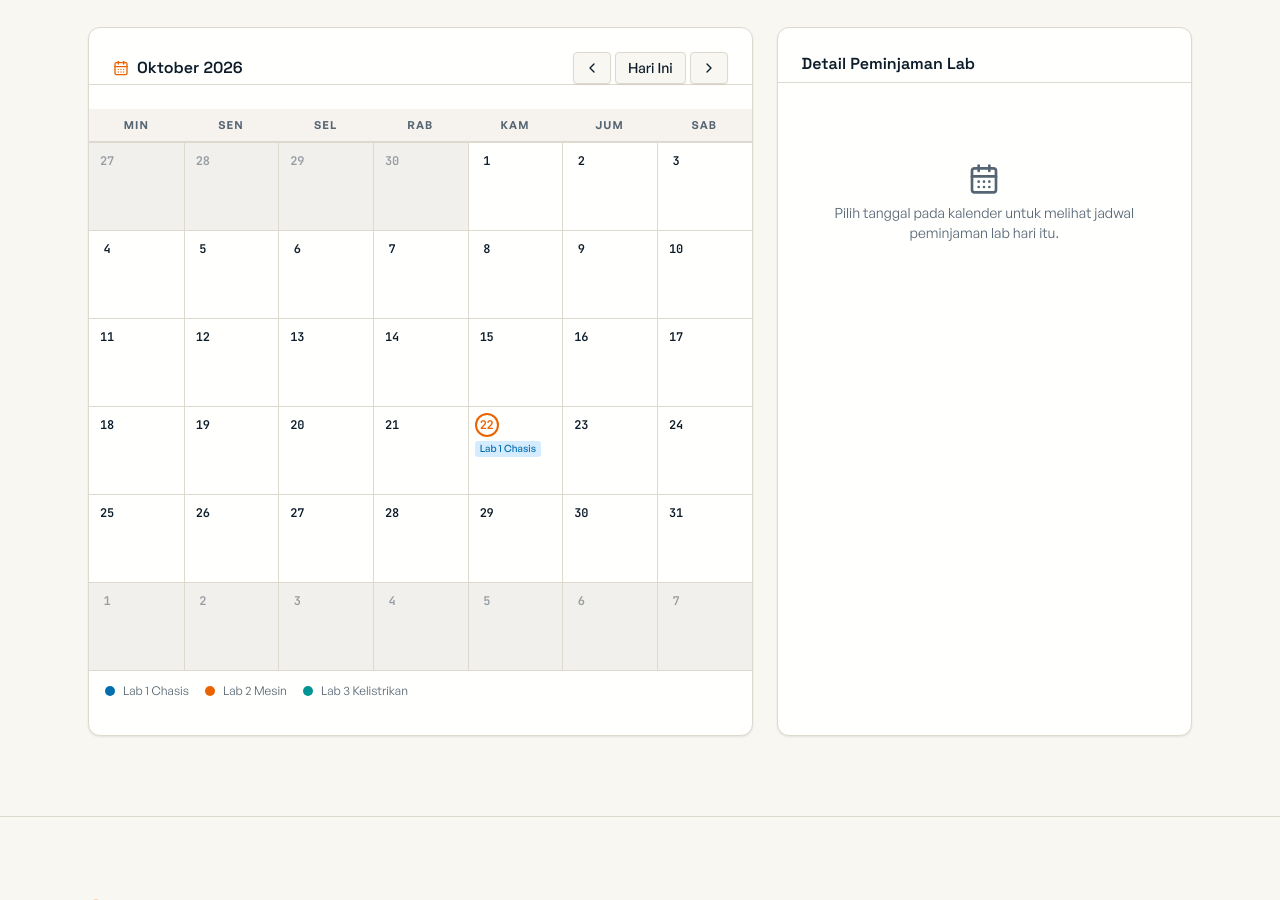
Beranda kalender lab › moves to the next month and clears the selected date
(page scrolled)
Click the button "22 Lab 1 Chasis". click: (515,450)
box: [468, 406, 562, 494]
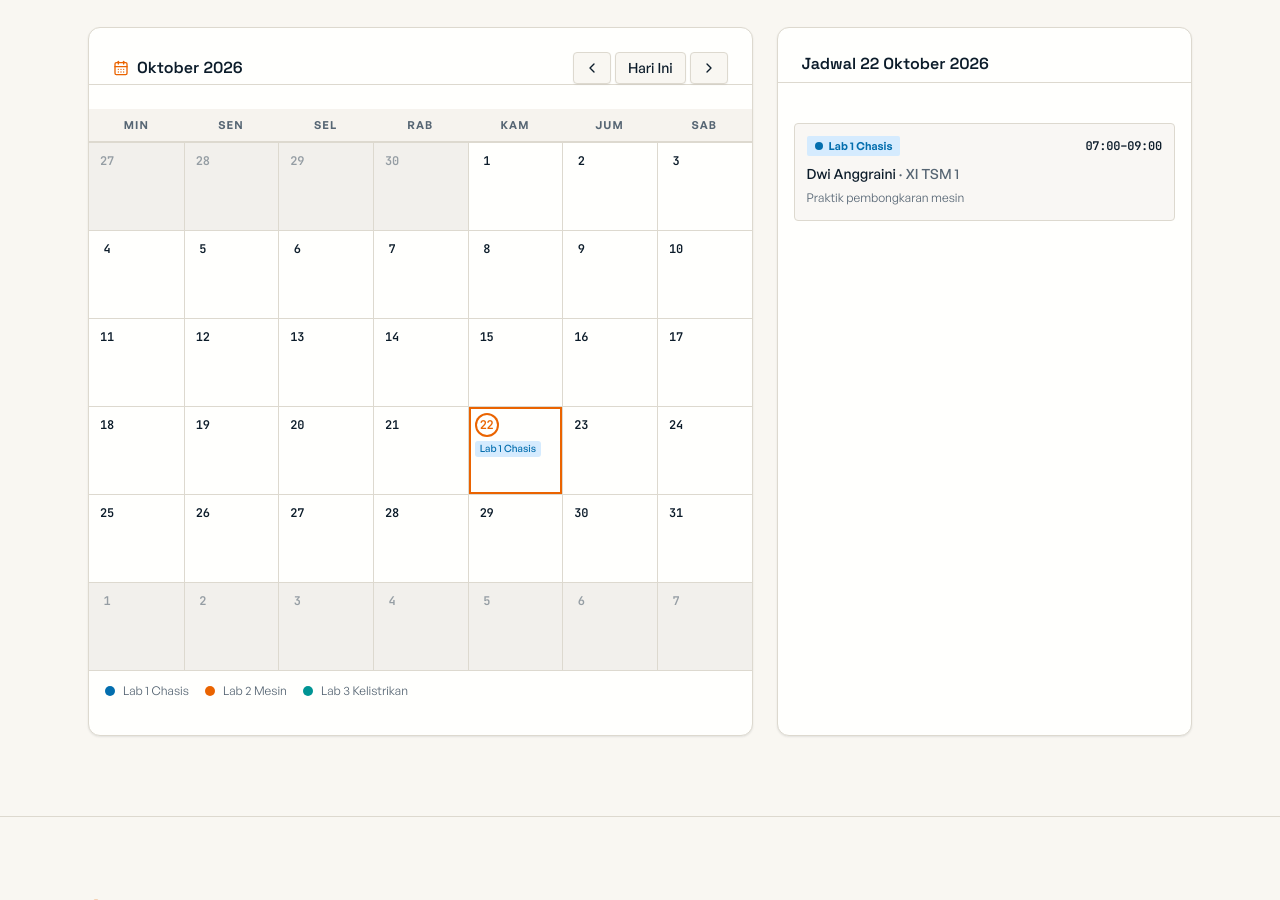
Expected: the element with test id "beranda.kalender.detail_panel" shows "Dwi Anggraini", [807, 165, 896, 182]
Click the button with test id "beranda.kalender.pagination_next". click: (709,68)
box: [690, 52, 728, 84]
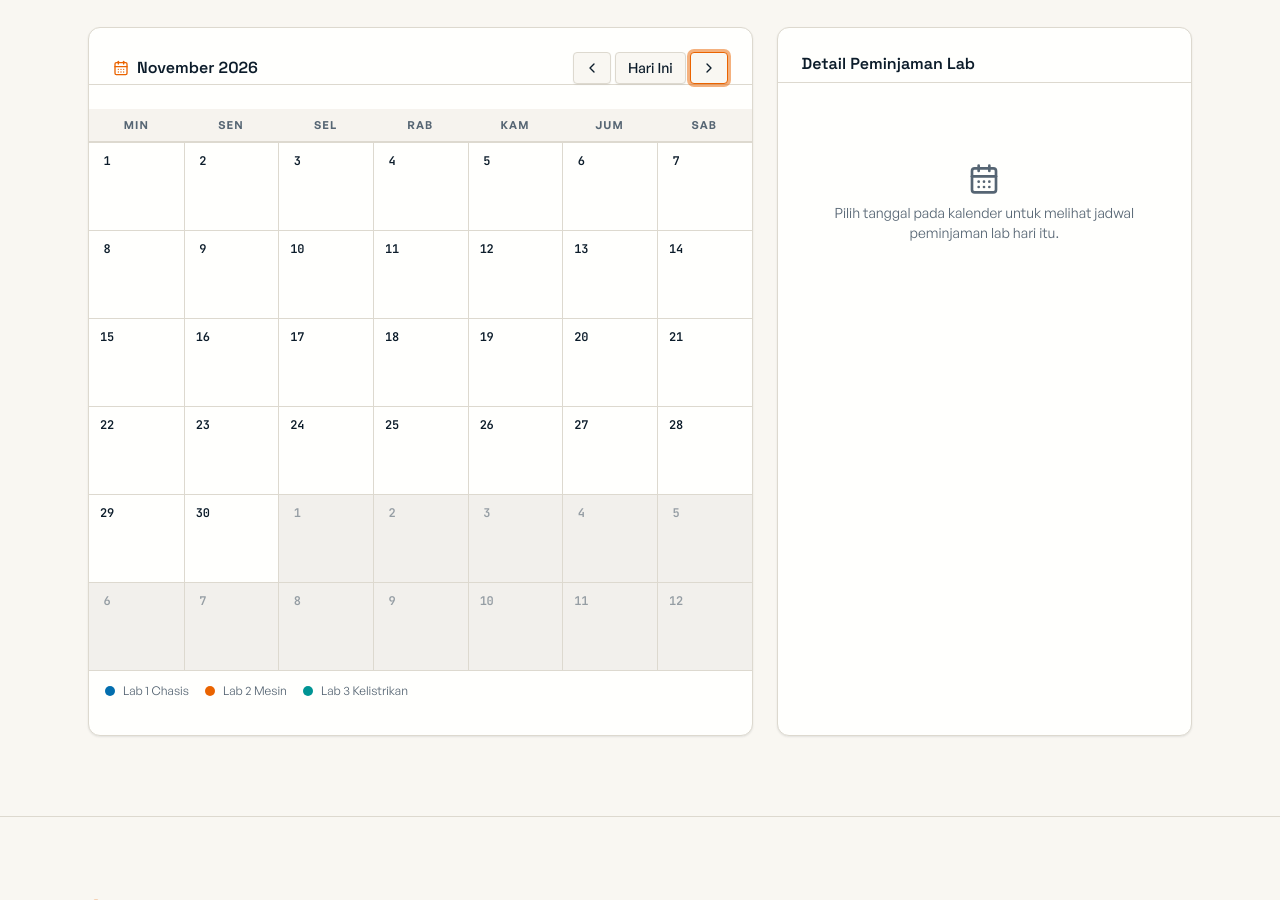
Expected: the element with test id "beranda.kalender.detail.empty_state" is shown, [834, 162, 1134, 240]
